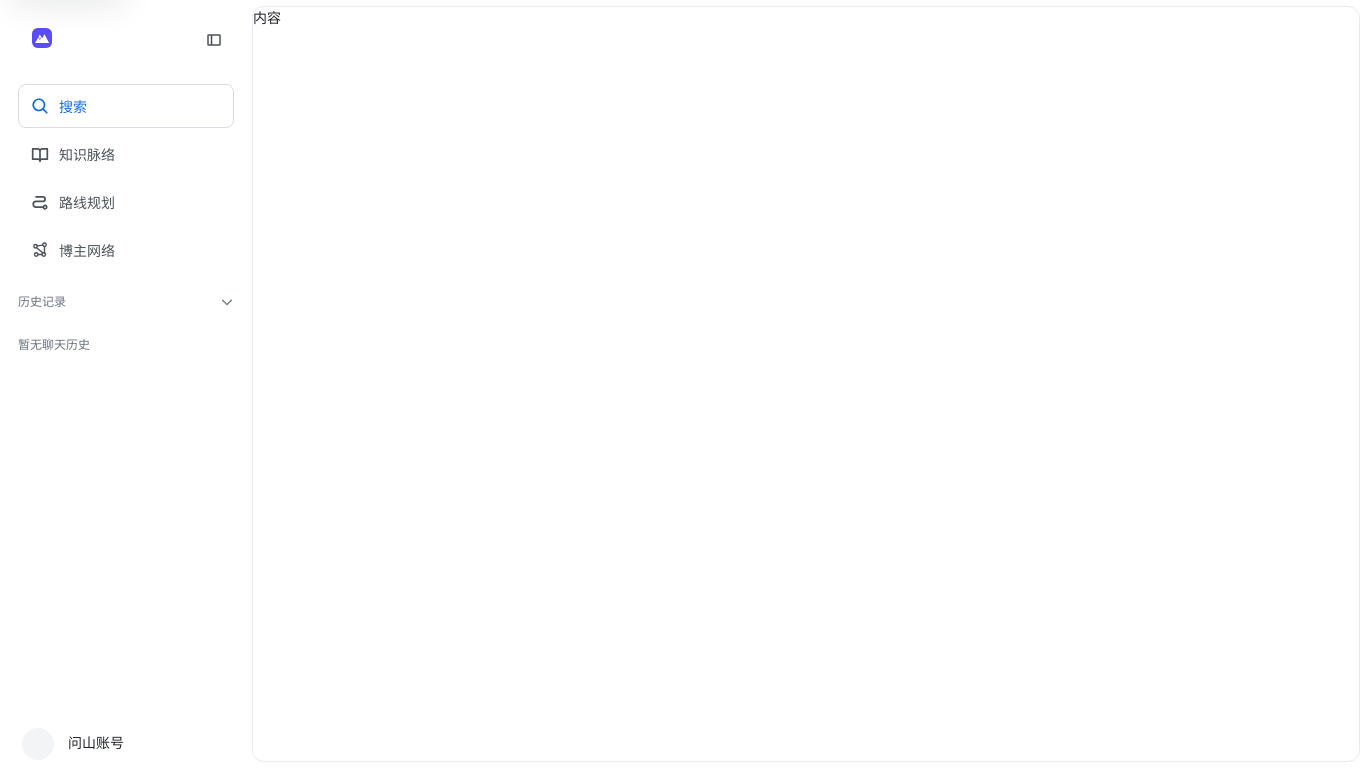
it: account menu supports first-item focus, arrow navigation and Escape focus restoration
The width and height of the screenshot is (1366, 768).
Step 1. Click the button with aria-label "打开账号菜单" → (126, 744), box [18,721,234,766]
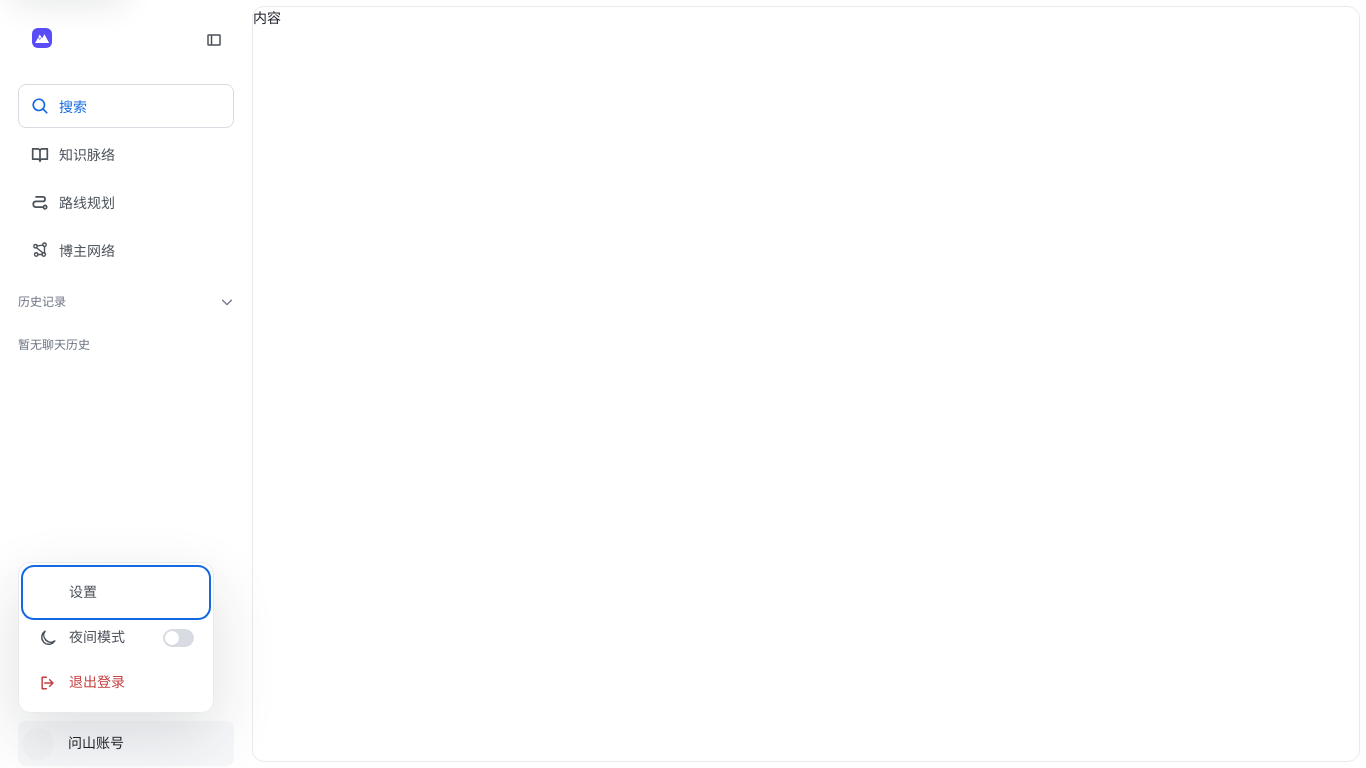
Step 2. Press ArrowDown in the menu item "设置", box [26,570,206,615]
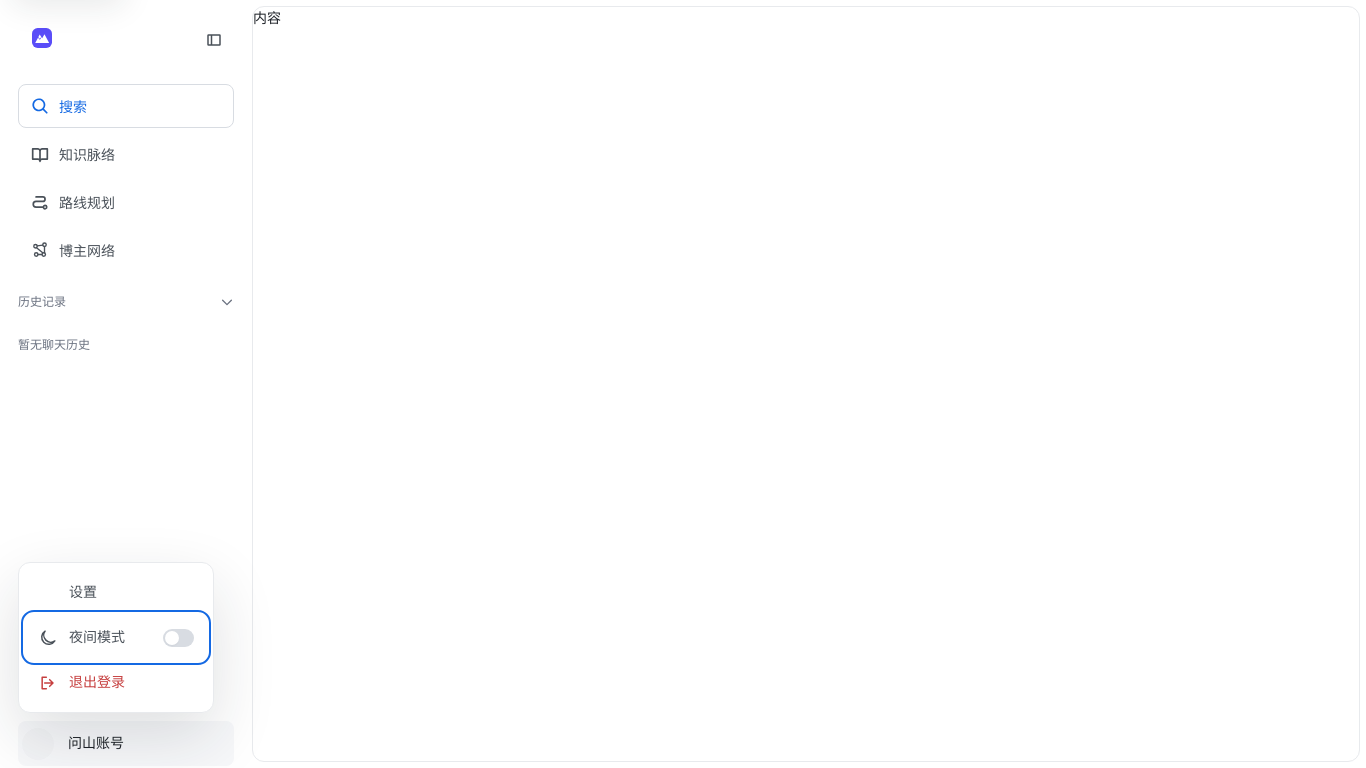
Step 3. Press Escape in the menu item "夜间模式", box [26,615,206,660]
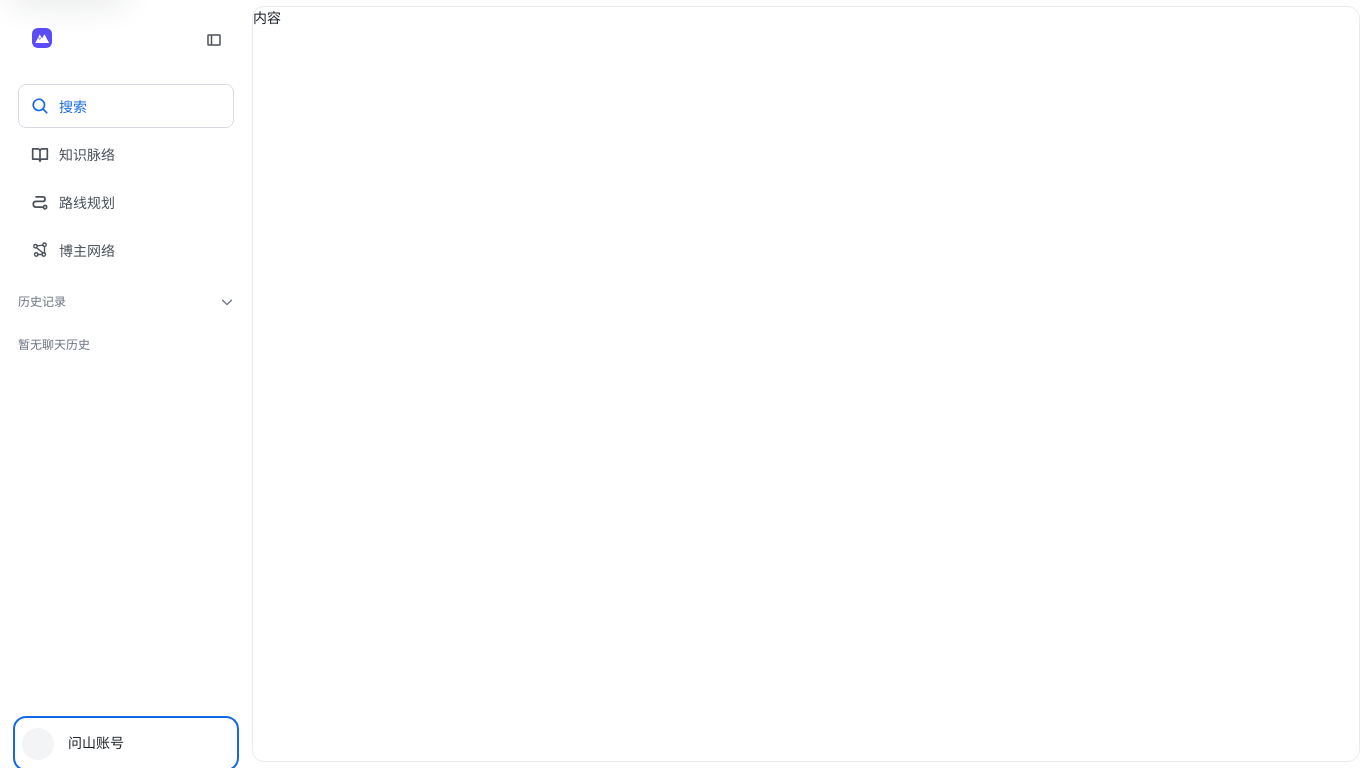
Check: the menu is gone
